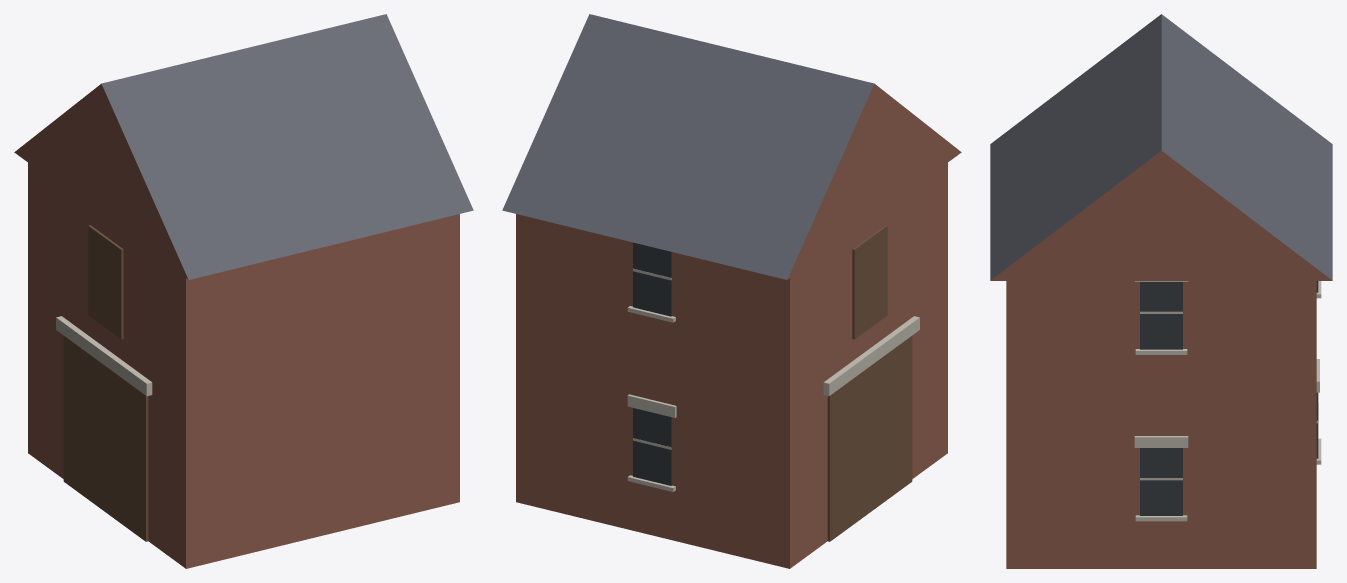
The model's file is house_1833_indiana_coach_house__draft_1904.glb.
The picture shows the model from 3 angles, left to right: view 1: azimuth 30°, elevation 25°; view 2: azimuth 150°, elevation 25°; view 3: azimuth 270°, elevation 25°; orthographic projection.
Parts seen in each view (by area): view 1: house_1833_indiana_coach_house__draft_1904; view 2: house_1833_indiana_coach_house__draft_1904; view 3: house_1833_indiana_coach_house__draft_1904.
Part boxes in pixels (x1,y1,x2,y2): house_1833_indiana_coach_house__draft_1904: [14, 14, 473, 568]; house_1833_indiana_coach_house__draft_1904: [502, 14, 961, 568]; house_1833_indiana_coach_house__draft_1904: [990, 14, 1332, 568].
Size of the model in its own units: 5.99 by 8.61 by 6.35.
